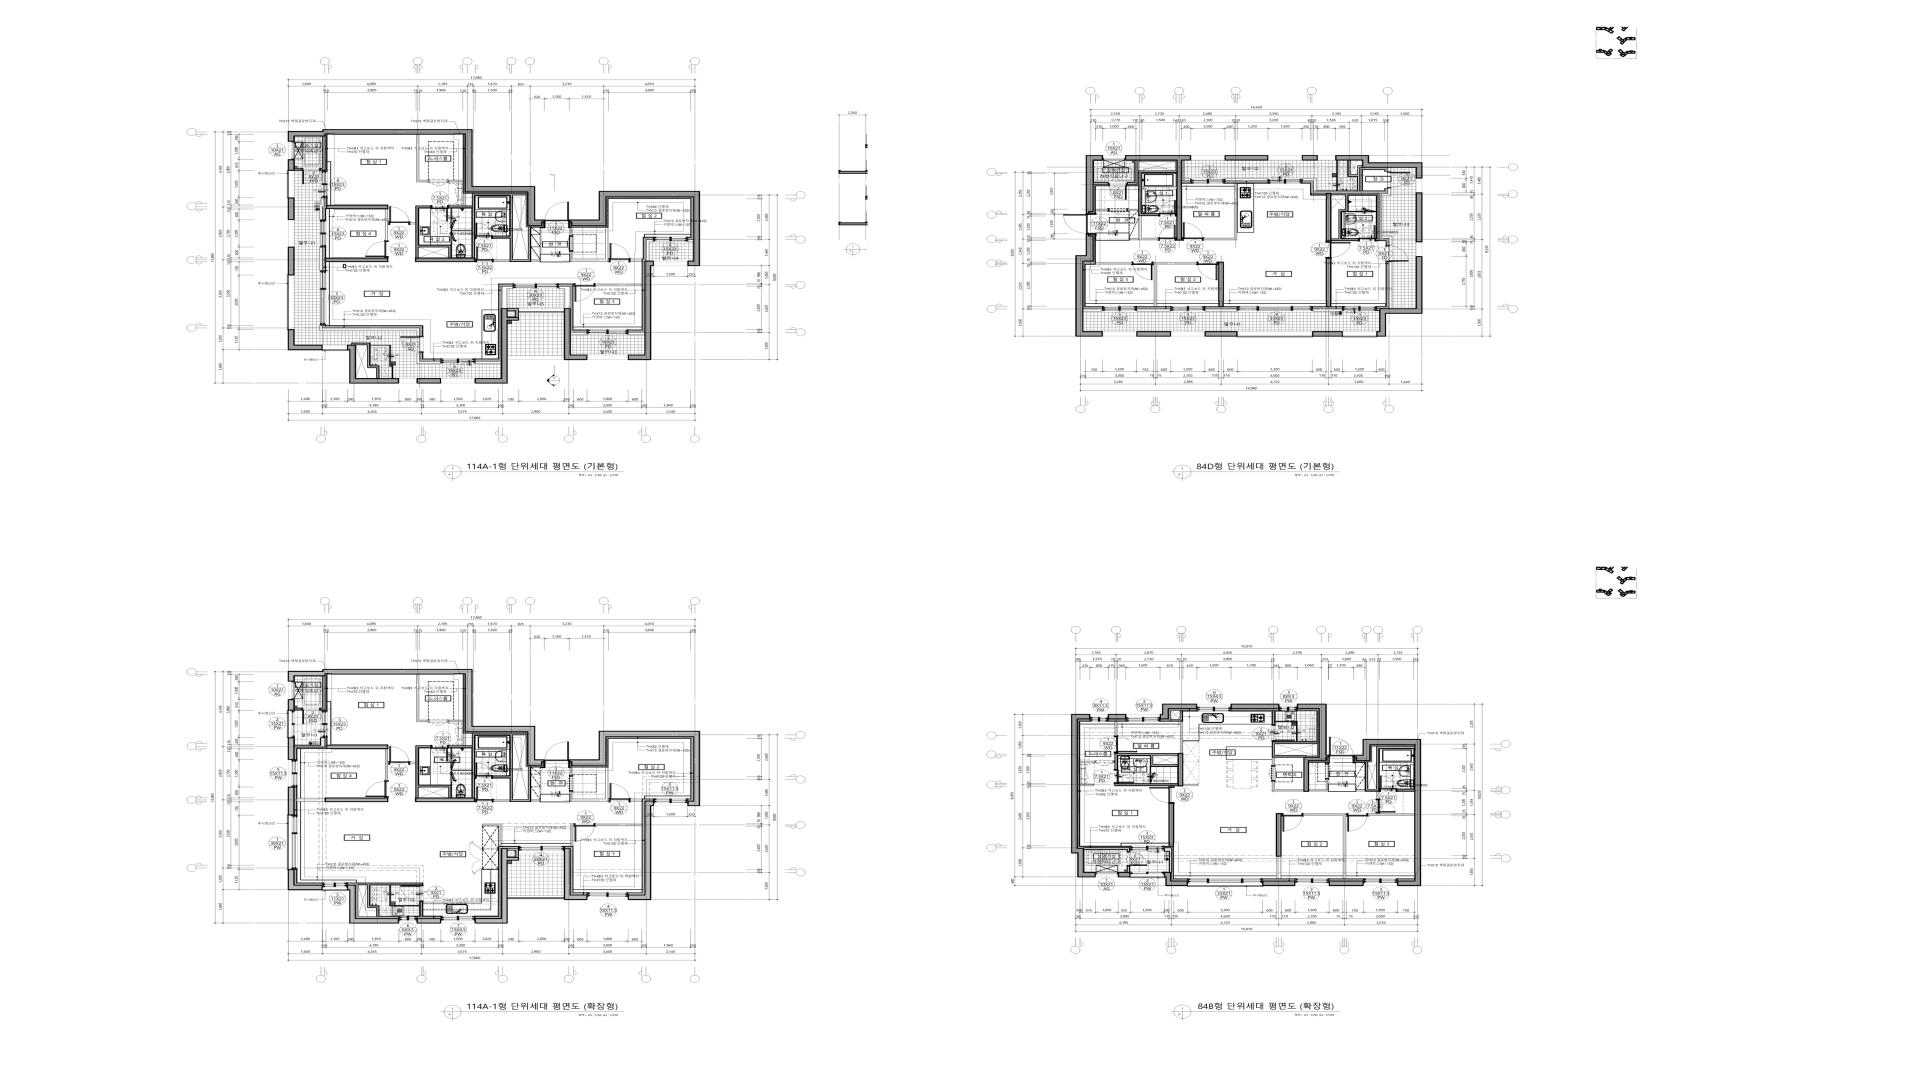door: (543, 742, 570, 769), (1063, 214, 1097, 233), (543, 203, 570, 228), (1329, 737, 1353, 757), (1150, 786, 1175, 804), (608, 783, 630, 803), (608, 243, 630, 262), (1325, 241, 1350, 258), (1197, 261, 1218, 281), (1133, 261, 1154, 281), (1182, 223, 1204, 241), (388, 207, 410, 225), (365, 781, 389, 798), (388, 746, 409, 765), (574, 823, 595, 841), (1346, 814, 1367, 832), (1282, 814, 1303, 832), (574, 284, 595, 302), (1387, 171, 1410, 189), (1386, 245, 1408, 262), (1114, 736, 1137, 753), (400, 886, 423, 902), (1271, 725, 1295, 741), (365, 241, 389, 257), (400, 336, 423, 352), (1109, 183, 1127, 200), (475, 762, 493, 779), (1379, 775, 1398, 793), (302, 167, 320, 185), (1126, 852, 1147, 866), (431, 745, 448, 762), (302, 708, 320, 724), (475, 787, 493, 803), (475, 247, 493, 262), (475, 223, 493, 239), (1158, 200, 1176, 216), (1375, 799, 1395, 814), (1114, 769, 1134, 783), (1358, 225, 1375, 241), (1159, 225, 1176, 241), (431, 206, 448, 222), (429, 179, 448, 186), (1108, 208, 1127, 214), (429, 720, 448, 725), (1325, 764, 1332, 779), (1096, 761, 1114, 766), (1269, 766, 1275, 781)
wall: (287, 669, 543, 766), (287, 129, 543, 225), (1354, 738, 1422, 886), (570, 731, 700, 806), (570, 191, 700, 266), (448, 733, 539, 802), (448, 194, 539, 262), (1125, 156, 1191, 241), (1071, 713, 1096, 877), (1377, 256, 1423, 336), (475, 848, 520, 924), (1127, 170, 1176, 240), (475, 309, 520, 384), (1357, 746, 1415, 799), (1303, 814, 1346, 878), (1298, 704, 1329, 793), (1076, 233, 1102, 336), (628, 800, 654, 901), (628, 261, 654, 360), (1332, 193, 1379, 241), (409, 745, 452, 798), (359, 882, 423, 916), (410, 206, 452, 257), (347, 885, 400, 924), (347, 345, 400, 384), (1336, 156, 1423, 178), (1154, 262, 1197, 306), (1204, 183, 1237, 240), (570, 767, 608, 802), (570, 228, 608, 262), (564, 848, 588, 901), (564, 309, 587, 360), (1273, 741, 1317, 766), (1085, 156, 1104, 214), (319, 326, 419, 336), (351, 343, 380, 378), (1114, 753, 1178, 769), (287, 869, 322, 890), (287, 330, 322, 351), (1382, 189, 1393, 245), (1160, 704, 1197, 720), (417, 675, 429, 723), (417, 135, 429, 182), (1171, 711, 1183, 753), (1348, 161, 1362, 191), (483, 824, 501, 847), (1164, 872, 1188, 886), (1416, 193, 1423, 243), (326, 257, 388, 262), (1325, 193, 1332, 241), (1273, 781, 1303, 791), (294, 737, 324, 748), (327, 204, 388, 210), (1325, 258, 1332, 306), (415, 257, 475, 262), (1168, 804, 1175, 847), (501, 286, 513, 309), (1230, 704, 1279, 709), (324, 798, 388, 802), (417, 353, 440, 364), (326, 745, 388, 749), (1218, 261, 1224, 307), (559, 286, 570, 309), (415, 798, 475, 802), (1276, 814, 1282, 857), (1225, 156, 1269, 161), (508, 895, 563, 899), (1309, 779, 1328, 791), (1127, 161, 1137, 185), (1303, 178, 1317, 191), (287, 247, 294, 276), (1164, 848, 1172, 872), (1389, 262, 1393, 309), (287, 787, 294, 815), (1084, 848, 1130, 852), (1204, 331, 1238, 336), (1137, 331, 1171, 336), (320, 676, 326, 711), (1329, 881, 1364, 886), (1178, 753, 1183, 786), (1262, 881, 1295, 886), (320, 137, 326, 170), (1114, 783, 1178, 786), (1312, 331, 1342, 336), (287, 737, 294, 760), (287, 198, 294, 220), (646, 240, 653, 261), (417, 918, 442, 923), (417, 378, 442, 384), (1184, 161, 1191, 181), (1367, 814, 1415, 816), (595, 284, 642, 286), (1108, 713, 1126, 720), (319, 198, 324, 220), (1276, 857, 1282, 878), (1225, 178, 1267, 181), (297, 798, 324, 802), (508, 848, 518, 857), (508, 309, 518, 318), (1096, 262, 1131, 265), (319, 247, 323, 270), (1137, 309, 1171, 311), (1205, 309, 1237, 311), (385, 749, 388, 781), (1302, 156, 1317, 161), (385, 210, 388, 241), (287, 699, 294, 711), (287, 160, 294, 171), (1313, 309, 1342, 311), (475, 361, 501, 364), (1118, 872, 1130, 877), (595, 824, 642, 825), (571, 824, 574, 847), (419, 902, 423, 916), (1084, 309, 1102, 311), (630, 258, 642, 262), (1398, 789, 1415, 791), (1311, 193, 1327, 195), (1093, 182, 1109, 185), (571, 332, 587, 335), (448, 720, 463, 723), (1114, 721, 1117, 736), (1273, 711, 1275, 725), (630, 799, 642, 802), (570, 767, 572, 775), (1126, 866, 1130, 872), (294, 167, 302, 170), (570, 228, 572, 236), (1080, 761, 1095, 762), (448, 181, 463, 182), (295, 708, 302, 711), (1080, 785, 1093, 786), (1096, 210, 1108, 211), (1387, 167, 1391, 171), (688, 240, 694, 243), (1377, 309, 1379, 311), (1325, 762, 1329, 764)
window: (286, 815, 298, 869), (286, 276, 294, 330), (1237, 306, 1313, 311), (1188, 878, 1262, 884), (1238, 332, 1312, 338), (518, 845, 564, 853), (1188, 884, 1262, 887), (320, 270, 326, 326), (1364, 878, 1398, 886), (1295, 878, 1329, 886), (587, 893, 628, 899), (654, 798, 687, 806), (1197, 704, 1230, 712), (289, 760, 298, 787), (286, 711, 295, 737), (513, 284, 559, 289), (518, 309, 563, 314), (1126, 715, 1160, 721), (1130, 872, 1164, 878), (323, 882, 347, 891), (508, 356, 563, 360), (442, 916, 475, 923), (587, 330, 628, 335), (587, 355, 628, 360), (286, 171, 294, 198), (1130, 845, 1164, 851), (1342, 306, 1377, 311), (1171, 306, 1205, 311), (1342, 332, 1377, 338), (440, 359, 475, 364), (1102, 306, 1137, 311), (320, 711, 327, 737), (654, 261, 687, 266), (442, 378, 475, 384), (1279, 704, 1298, 712), (653, 237, 688, 241), (322, 171, 327, 198), (320, 220, 326, 247), (289, 220, 294, 247), (1191, 156, 1225, 160), (1102, 332, 1137, 336), (1269, 179, 1303, 183), (1191, 179, 1225, 183), (322, 345, 347, 351), (1269, 156, 1302, 160), (1171, 332, 1204, 336), (1096, 872, 1118, 877), (400, 916, 417, 923), (1091, 715, 1108, 721), (1104, 156, 1125, 161), (289, 682, 294, 699), (289, 142, 294, 160), (400, 378, 417, 384), (1416, 178, 1422, 193), (1317, 156, 1336, 160), (1416, 243, 1422, 256)
